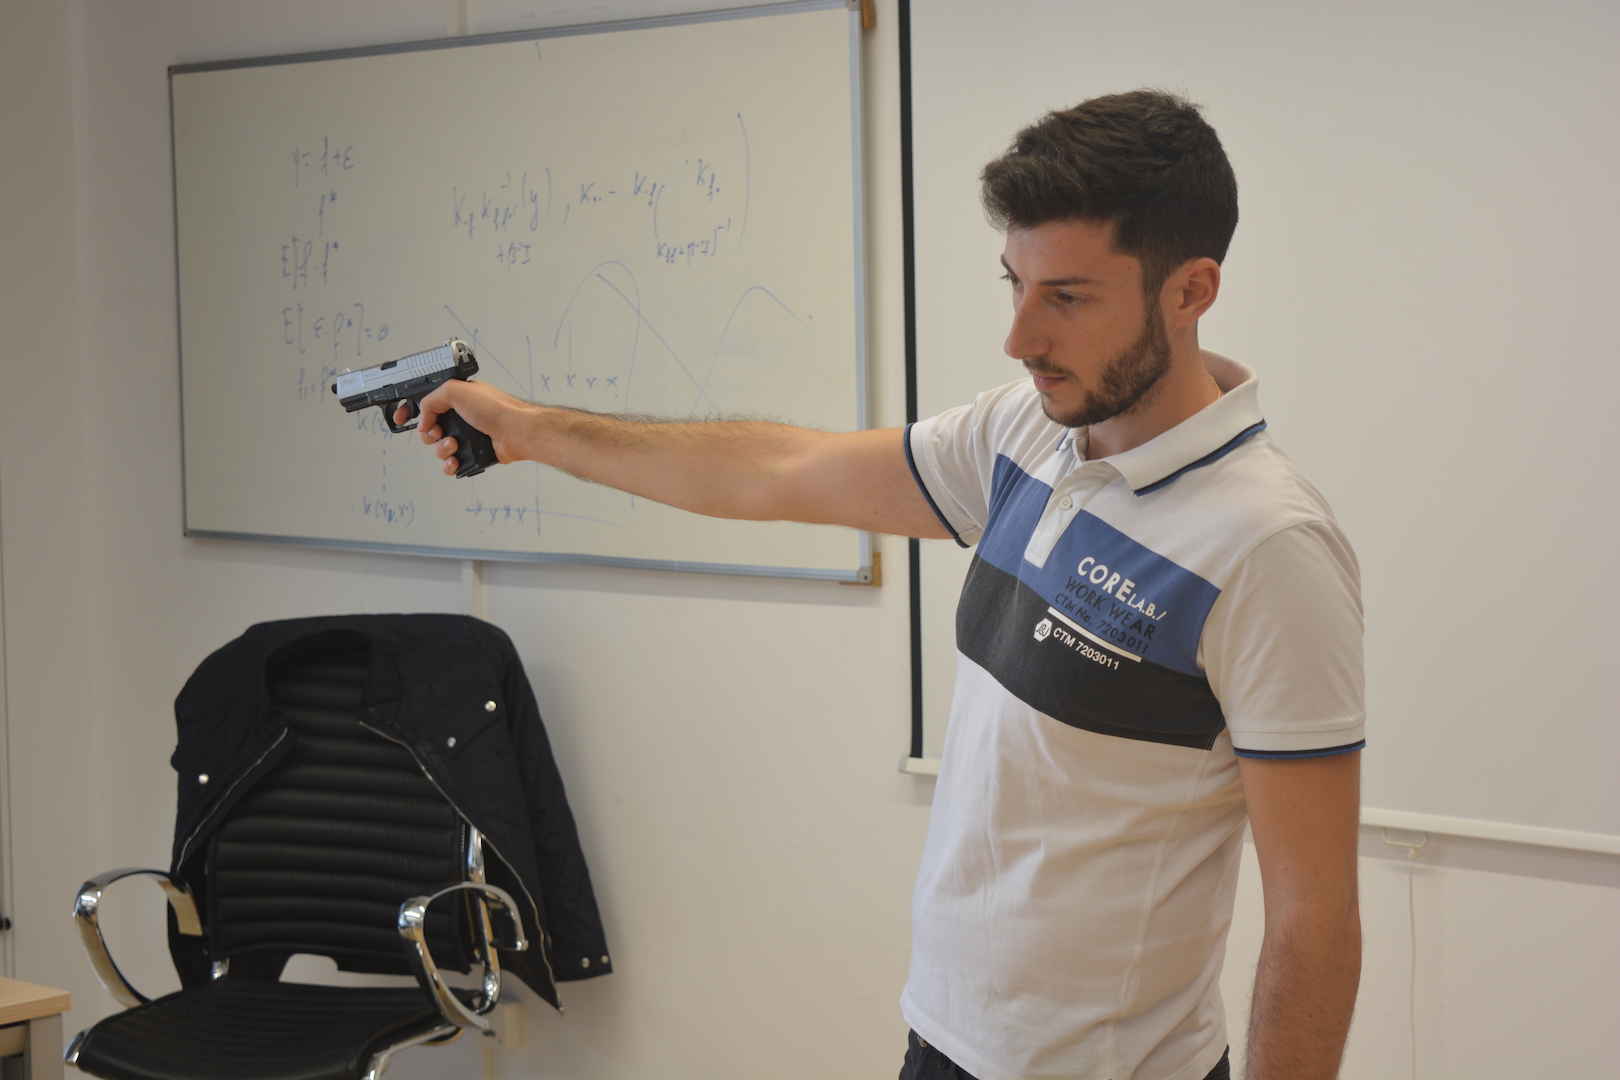pistol: (331, 336, 501, 481)
